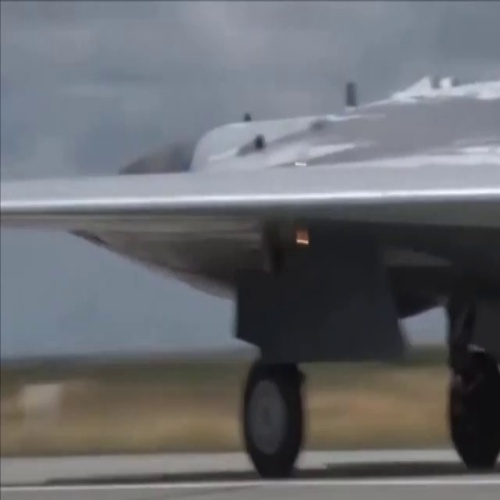uav947: (1, 80, 498, 477)
